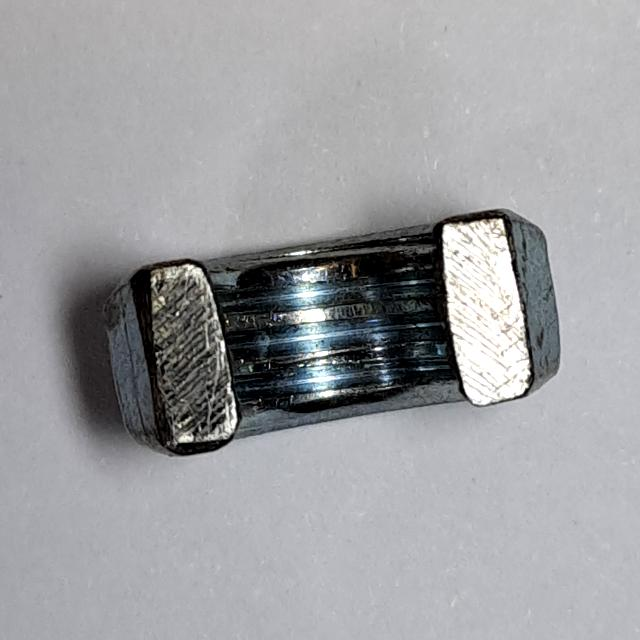Side-Fracture: (87, 199, 575, 471)
